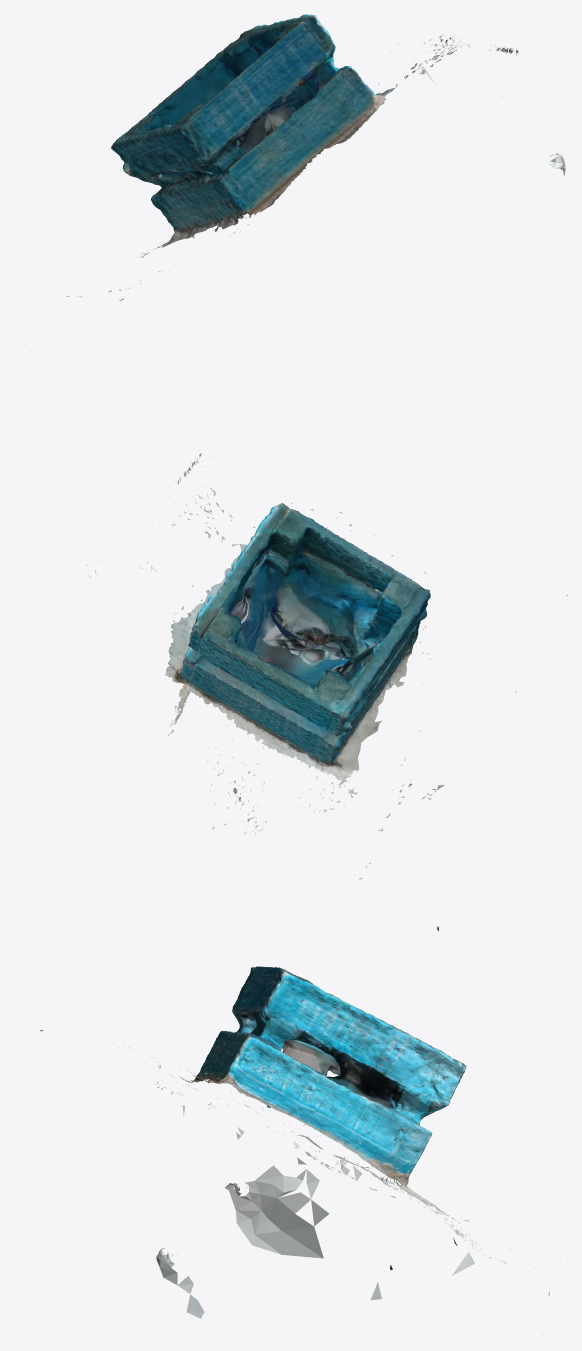
Rendered from prac2.glb.
3 views of the same model, one above another, from view 1: azimuth 30°, elevation 25°; view 2: azimuth 150°, elevation 25°; view 3: azimuth 270°, elevation 25° (orthographic). The views are drawn at different scales.
Size of the model in its own units: 15.31 by 12.12 by 14.54.
1 material, 1 textured.
